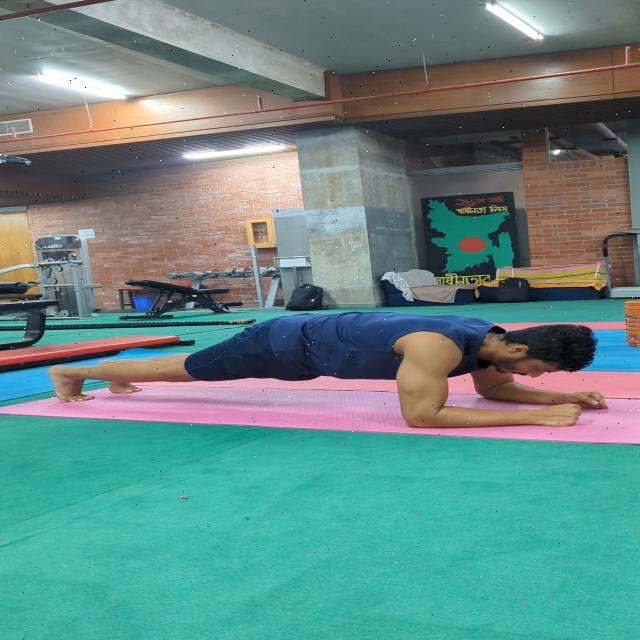Normal_Plunk: (41, 304, 618, 444)
